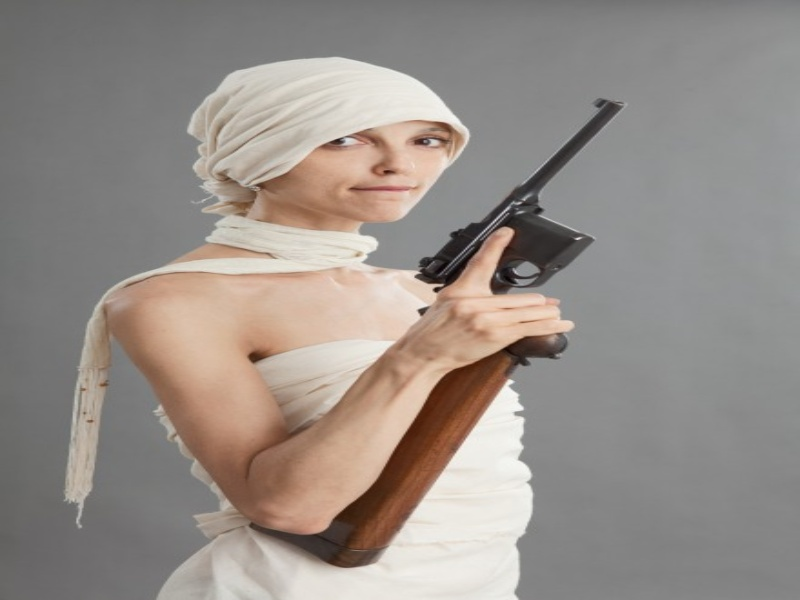gun: (412, 71, 631, 325)
